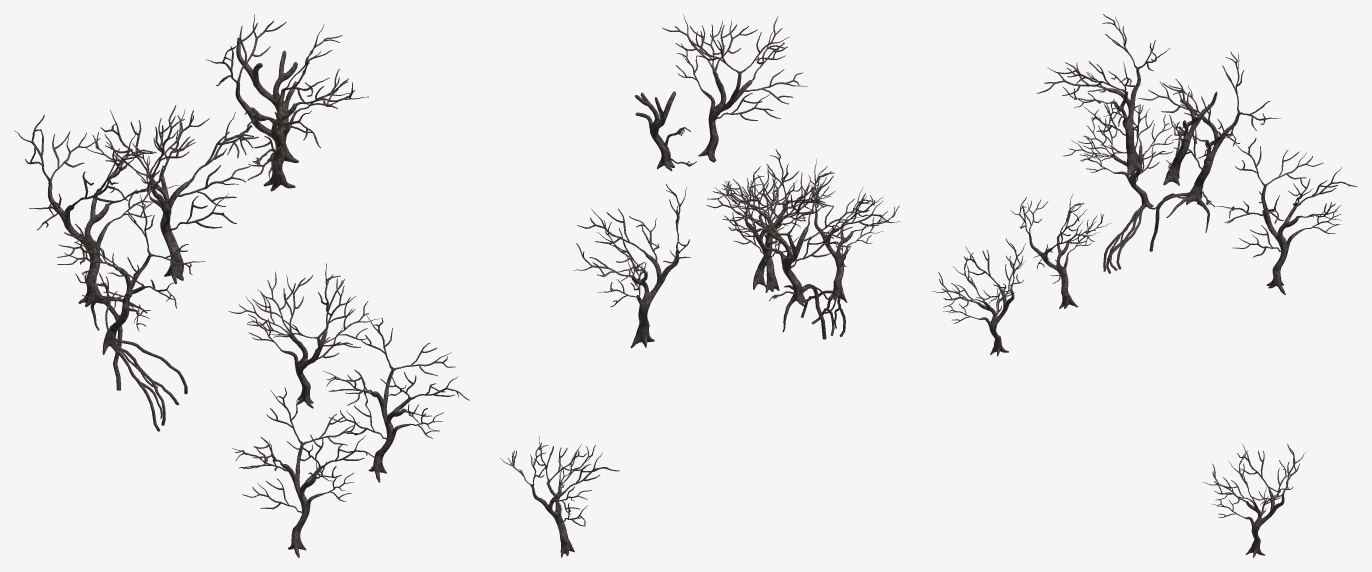
File: ftree.fbx
3 views of the same model, side by side, from view 1: azimuth 30°, elevation 25°; view 2: azimuth 150°, elevation 25°; view 3: azimuth 270°, elevation 25° (orthographic). The views are drawn at different scales.
Visible parts, largest first — view 1: ftree_Mesh_001; view 2: ftree_Mesh_001; view 3: ftree_Mesh_001.
Part boxes in pixels (left/top/right/bottom): ftree_Mesh_001: left=14, top=14, right=469, bottom=557; ftree_Mesh_001: left=500, top=14, right=900, bottom=557; ftree_Mesh_001: left=932, top=14, right=1357, bottom=557.
Size of the model in its own units: 2899 by 4397 by 3526.
